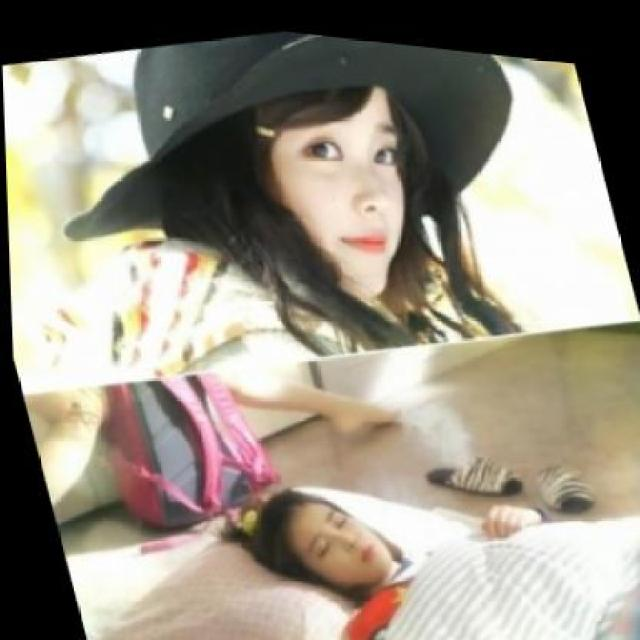hat: (62, 25, 512, 241)
